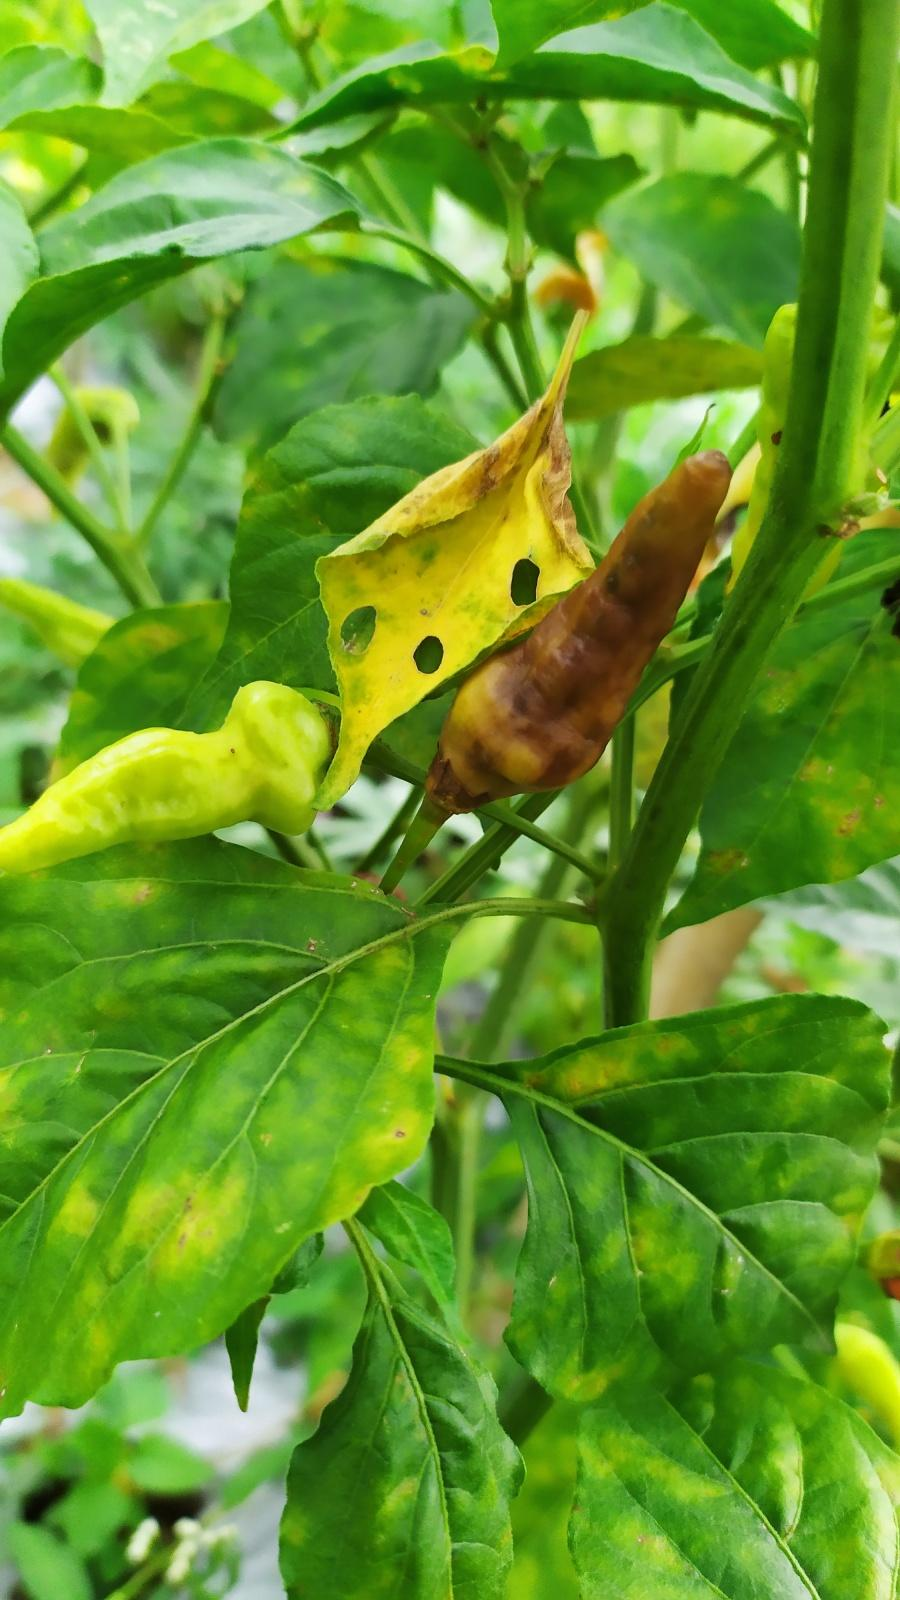cabai_normal: (0, 675, 332, 878)
lalat_buah: (437, 452, 729, 808)
